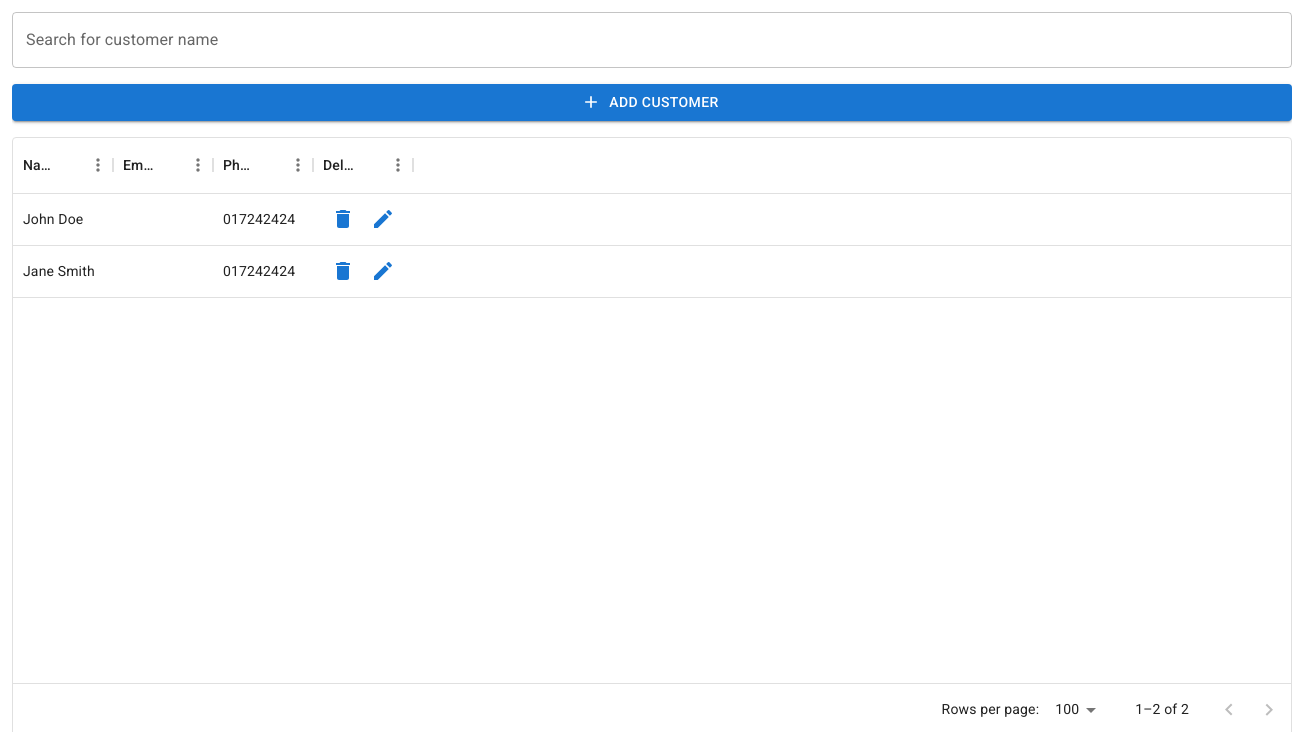
Scenario: CustomerListGrid › displays a loading spinner when deleting customer is in progress
The width and height of the screenshot is (1304, 732).
Step 1. Click the 1st button with test id "customer-list-grid-delete-button" → x=343, y=219, box [323,199,363,239]
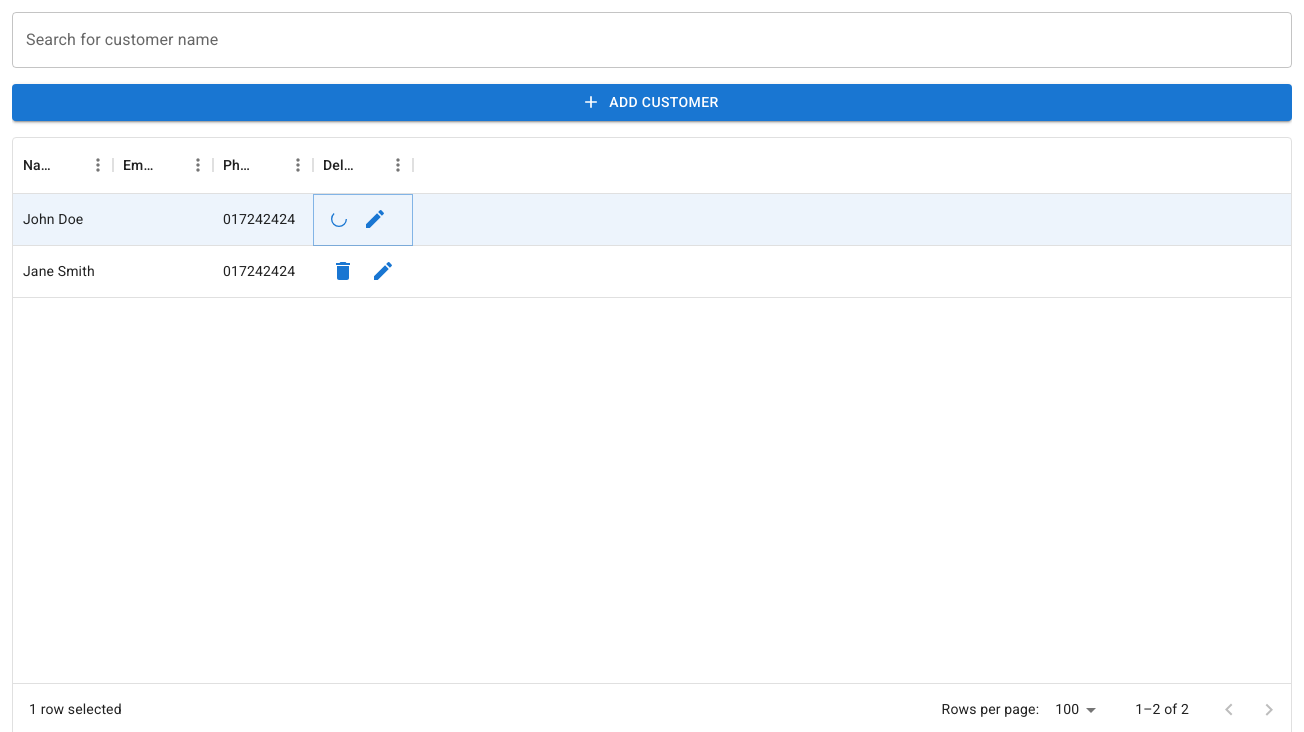
Now the progress indicator is shown, box [331,211,347,227]
